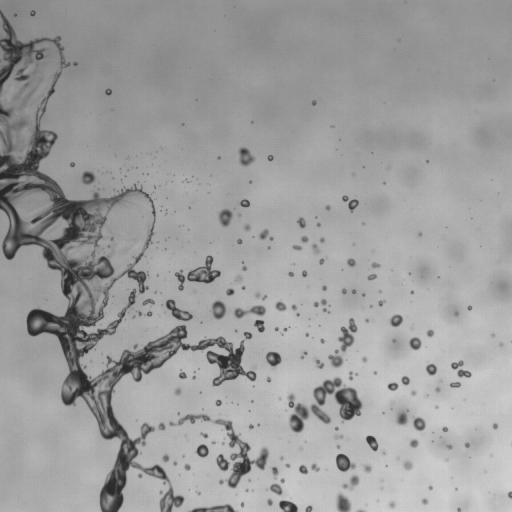droplet: (335, 453, 356, 472), (451, 360, 471, 377), (238, 147, 255, 166), (210, 300, 227, 319), (265, 351, 282, 370), (217, 208, 233, 227), (335, 492, 351, 511), (411, 415, 426, 435), (342, 195, 358, 213), (341, 474, 359, 490), (395, 408, 409, 425), (277, 500, 298, 511), (80, 171, 95, 185), (194, 444, 209, 458), (365, 435, 378, 451), (388, 314, 403, 327), (259, 228, 273, 241), (408, 337, 421, 350), (425, 361, 437, 375), (253, 319, 265, 332), (312, 356, 324, 369), (275, 299, 286, 311), (253, 291, 267, 300), (17, 32, 28, 43), (4, 76, 15, 87), (48, 144, 59, 155), (36, 160, 47, 171), (72, 166, 83, 177), (80, 189, 91, 200), (64, 190, 75, 201), (229, 202, 240, 213), (318, 210, 329, 221), (32, 244, 43, 255), (51, 269, 62, 280), (154, 295, 165, 306), (222, 295, 233, 306), (59, 297, 70, 308), (263, 299, 274, 310), (154, 301, 165, 312), (301, 303, 312, 314), (54, 306, 65, 317), (223, 309, 234, 320), (159, 325, 170, 336), (310, 327, 321, 338), (148, 330, 159, 341), (302, 338, 313, 349), (308, 341, 319, 352), (303, 356, 314, 367), (239, 358, 250, 369), (436, 362, 447, 373), (209, 363, 220, 374), (85, 368, 96, 379), (325, 368, 336, 379), (447, 370, 458, 381), (121, 372, 132, 383), (429, 392, 440, 403), (324, 393, 335, 404), (303, 395, 314, 406), (208, 407, 219, 418), (305, 413, 316, 424), (281, 419, 292, 430), (127, 428, 138, 439), (217, 428, 228, 439), (110, 436, 121, 447), (221, 446, 232, 457), (207, 447, 218, 458), (405, 447, 416, 458), (247, 449, 258, 460), (206, 450, 217, 461), (106, 453, 117, 464), (125, 466, 136, 477), (264, 473, 275, 484), (95, 475, 106, 486), (182, 498, 193, 509), (311, 243, 321, 255), (142, 297, 155, 306), (360, 464, 372, 473), (400, 375, 410, 385), (403, 460, 413, 470), (309, 462, 319, 472), (298, 464, 308, 474), (239, 198, 250, 207), (296, 217, 305, 228), (387, 382, 398, 391), (178, 369, 187, 379), (348, 371, 358, 380), (408, 438, 418, 447), (347, 258, 356, 267), (233, 275, 242, 284), (229, 215, 238, 224), (304, 217, 313, 226), (251, 226, 260, 235), (315, 227, 324, 236), (239, 230, 248, 239), (18, 244, 27, 253), (134, 293, 143, 302), (220, 294, 229, 303), (240, 301, 249, 310), (42, 303, 51, 312), (364, 308, 373, 317), (248, 324, 257, 333), (49, 334, 58, 343), (419, 334, 428, 343), (78, 355, 87, 364), (364, 361, 373, 370), (341, 378, 350, 387), (440, 382, 449, 391), (112, 409, 121, 418), (389, 410, 398, 419), (115, 414, 124, 423), (88, 416, 97, 425), (411, 429, 420, 438), (264, 458, 273, 467), (224, 467, 233, 476), (277, 467, 286, 476), (344, 468, 353, 477), (342, 489, 351, 498), (422, 489, 431, 498), (272, 493, 281, 502), (202, 499, 211, 508), (226, 287, 235, 295), (367, 273, 377, 280), (333, 433, 343, 440), (328, 505, 339, 511), (419, 505, 430, 511), (243, 223, 251, 231), (300, 235, 308, 243), (426, 329, 434, 337), (300, 350, 307, 359), (162, 453, 169, 462), (504, 491, 511, 500), (292, 244, 302, 250), (378, 299, 386, 306), (174, 387, 181, 395), (388, 500, 395, 508), (0, 144, 5, 155), (0, 209, 5, 220), (0, 229, 5, 240), (371, 262, 380, 268), (215, 399, 222, 406), (8, 18, 15, 25), (61, 67, 68, 74), (9, 70, 16, 77), (243, 142, 250, 149), (248, 148, 255, 155), (233, 151, 240, 158), (248, 161, 255, 168), (47, 171, 54, 178), (125, 181, 132, 188), (98, 191, 105, 198), (216, 204, 223, 211), (230, 209, 237, 216), (213, 217, 220, 224), (240, 217, 247, 224), (221, 225, 228, 232), (299, 228, 306, 235), (294, 238, 301, 245), (158, 240, 165, 247), (40, 257, 47, 264), (210, 263, 217, 270), (133, 264, 140, 271), (370, 267, 377, 274), (294, 269, 301, 276), (232, 284, 239, 291), (55, 285, 62, 292), (142, 291, 149, 298), (320, 291, 327, 298), (254, 298, 261, 305), (284, 300, 291, 307), (31, 302, 38, 309), (144, 303, 151, 310), (21, 310, 28, 317), (175, 318, 182, 325), (39, 331, 46, 338), (209, 332, 216, 339), (101, 333, 108, 340), (492, 336, 499, 343), (243, 339, 250, 346), (231, 342, 238, 349), (136, 343, 143, 350), (113, 354, 120, 361), (323, 358, 330, 365), (460, 363, 467, 370), (62, 368, 69, 375), (185, 370, 192, 377), (237, 373, 244, 380), (327, 374, 334, 381), (452, 374, 459, 381), (459, 375, 466, 382), (316, 379, 323, 386), (405, 383, 412, 390), (428, 387, 435, 394), (415, 391, 422, 398), (356, 392, 363, 399), (74, 395, 81, 402), (318, 404, 325, 411), (191, 408, 198, 415), (209, 413, 216, 420), (222, 414, 229, 421), (171, 415, 178, 422), (406, 417, 413, 424), (121, 422, 128, 429), (145, 432, 152, 439), (238, 434, 245, 441), (199, 437, 206, 444), (202, 438, 209, 445), (134, 442, 141, 449), (232, 445, 239, 452), (223, 453, 230, 460), (400, 454, 407, 461), (133, 455, 140, 462), (396, 460, 403, 467), (159, 461, 166, 468), (177, 461, 184, 468), (411, 462, 418, 469), (249, 463, 256, 470), (276, 471, 283, 478), (240, 473, 247, 480), (353, 483, 360, 490), (161, 485, 168, 492), (120, 487, 127, 494), (93, 494, 100, 501), (281, 494, 288, 501), (291, 497, 298, 504), (196, 501, 203, 508), (272, 501, 279, 508), (231, 502, 238, 509), (200, 432, 208, 438), (267, 498, 273, 506), (305, 505, 313, 511), (170, 506, 179, 511), (296, 506, 305, 511), (347, 506, 356, 511), (105, 88, 111, 95), (236, 238, 242, 245), (291, 304, 297, 311), (410, 390, 417, 396), (492, 422, 498, 429), (442, 425, 448, 432), (211, 439, 218, 445), (184, 463, 190, 470), (421, 498, 428, 504), (267, 155, 273, 161), (288, 271, 294, 277), (321, 285, 327, 291), (361, 356, 367, 362), (265, 376, 271, 382), (0, 48, 4, 57), (0, 122, 4, 131), (319, 258, 324, 265), (302, 270, 307, 277), (454, 310, 459, 317), (435, 386, 440, 393), (248, 423, 253, 430), (445, 444, 452, 449), (381, 448, 386, 455), (30, 10, 35, 16), (69, 162, 75, 167), (325, 204, 330, 210), (319, 237, 324, 243), (341, 288, 346, 294), (424, 393, 429, 399), (464, 442, 470, 447), (336, 444, 341, 450), (195, 490, 201, 495), (117, 507, 124, 511), (387, 507, 394, 511), (316, 222, 321, 227), (351, 289, 356, 294), (467, 305, 472, 310), (304, 332, 309, 337), (320, 338, 325, 343), (498, 341, 503, 346), (285, 463, 290, 468), (428, 485, 433, 490), (25, 9, 30, 14), (41, 32, 46, 37), (36, 33, 41, 38), (49, 34, 54, 39), (30, 35, 35, 40), (58, 39, 63, 44), (61, 49, 66, 54), (68, 63, 73, 68), (57, 76, 62, 81), (20, 79, 25, 84), (2, 80, 7, 85), (53, 85, 58, 90), (50, 92, 55, 97), (310, 95, 315, 100), (38, 125, 43, 130), (53, 128, 58, 133), (53, 139, 58, 144), (86, 167, 91, 172), (121, 168, 126, 173), (78, 171, 83, 176), (92, 171, 97, 176), (56, 180, 61, 185), (135, 183, 140, 188), (320, 204, 325, 209), (227, 206, 232, 211), (242, 206, 247, 211), (329, 206, 334, 211), (352, 207, 357, 212), (154, 208, 159, 213), (293, 215, 298, 220), (315, 217, 320, 222), (312, 218, 317, 223), (248, 221, 253, 226), (294, 222, 299, 227), (267, 231, 272, 236), (254, 233, 259, 238), (150, 235, 155, 240), (323, 236, 328, 241), (232, 240, 237, 245), (316, 241, 321, 246), (147, 243, 152, 248), (143, 249, 148, 254), (294, 249, 299, 254), (348, 253, 353, 258), (315, 255, 320, 260), (353, 256, 358, 261), (375, 258, 380, 263), (200, 261, 205, 266), (366, 261, 371, 266), (345, 264, 350, 269), (240, 270, 245, 275), (182, 271, 187, 276), (214, 276, 219, 281), (183, 278, 188, 283), (371, 278, 376, 283), (142, 280, 147, 285), (192, 280, 197, 285), (209, 280, 214, 285), (200, 281, 205, 286), (227, 283, 232, 288), (317, 283, 322, 288), (326, 285, 331, 290), (336, 288, 341, 293), (346, 289, 351, 294), (134, 290, 139, 295), (259, 291, 264, 296), (355, 291, 360, 296), (167, 294, 172, 299), (228, 294, 233, 299), (378, 295, 383, 300), (211, 297, 216, 302), (274, 297, 279, 302), (316, 297, 321, 302), (281, 298, 286, 303), (161, 299, 166, 304), (308, 301, 313, 306), (174, 302, 179, 307), (373, 302, 378, 307), (207, 303, 212, 308), (318, 303, 323, 308), (295, 307, 300, 312), (166, 308, 171, 313), (274, 308, 279, 313), (280, 309, 285, 314), (291, 309, 296, 314), (449, 309, 454, 314), (397, 310, 402, 315), (208, 312, 213, 317), (387, 313, 392, 318), (401, 314, 406, 319), (257, 315, 262, 320), (451, 315, 456, 320), (353, 319, 358, 324), (22, 322, 27, 327), (117, 322, 122, 327), (262, 322, 267, 327), (398, 322, 403, 327), (344, 323, 349, 328), (390, 325, 395, 330), (425, 325, 430, 330), (185, 326, 190, 331), (278, 326, 283, 331), (305, 327, 310, 332), (338, 331, 343, 336), (432, 332, 437, 337), (409, 333, 414, 338), (27, 334, 32, 339), (240, 334, 245, 339), (198, 335, 203, 340), (429, 335, 434, 340), (225, 337, 230, 342), (193, 340, 198, 345), (406, 344, 411, 349), (345, 345, 350, 350), (418, 345, 423, 350), (177, 346, 182, 351), (129, 347, 134, 352), (186, 347, 191, 352), (271, 347, 276, 352), (409, 347, 414, 352), (195, 348, 200, 353), (87, 349, 92, 354), (330, 351, 335, 356), (170, 354, 175, 359), (366, 356, 371, 361), (102, 357, 107, 362), (203, 358, 208, 363), (163, 360, 168, 365), (311, 361, 316, 366), (360, 361, 365, 366), (433, 361, 438, 366), (265, 362, 270, 367), (275, 363, 280, 368), (102, 365, 107, 370), (315, 367, 320, 372), (82, 368, 87, 373), (150, 368, 155, 373), (435, 368, 440, 373), (452, 368, 457, 373), (254, 369, 259, 374), (423, 370, 428, 375), (405, 372, 410, 377), (431, 373, 436, 378), (255, 374, 260, 379), (179, 377, 184, 382), (227, 378, 232, 383), (245, 378, 250, 383), (388, 378, 393, 383), (207, 379, 212, 384), (223, 379, 228, 384), (408, 379, 413, 384), (132, 380, 137, 385), (397, 381, 402, 386), (112, 384, 117, 389), (180, 387, 185, 392), (169, 388, 174, 393), (386, 388, 391, 393), (110, 392, 115, 397), (175, 394, 180, 399), (409, 394, 414, 399), (57, 398, 62, 403), (284, 398, 289, 403), (109, 400, 114, 405), (431, 400, 436, 405), (68, 403, 73, 408), (85, 407, 90, 412), (358, 407, 363, 412), (384, 408, 389, 413), (201, 409, 206, 414), (179, 412, 184, 417), (414, 412, 419, 417), (352, 414, 357, 419), (420, 414, 425, 419), (194, 418, 199, 423), (343, 418, 348, 423), (491, 418, 496, 423), (318, 419, 323, 424), (251, 420, 256, 425), (147, 421, 152, 426), (163, 421, 168, 426), (424, 422, 429, 427), (399, 423, 404, 428), (487, 423, 492, 428), (497, 423, 502, 428), (220, 424, 225, 429), (423, 426, 428, 431), (331, 429, 336, 434), (336, 429, 341, 434), (233, 430, 238, 435), (291, 430, 296, 435), (369, 431, 374, 436), (97, 434, 102, 439), (374, 435, 379, 440), (225, 437, 230, 442), (336, 438, 341, 443), (405, 440, 410, 445), (417, 440, 422, 445), (247, 441, 252, 446), (363, 441, 368, 446), (206, 443, 211, 448), (192, 445, 197, 450), (376, 446, 381, 451), (409, 446, 414, 451), (443, 447, 448, 452), (336, 449, 341, 454), (340, 449, 345, 454), (344, 451, 349, 456), (193, 452, 198, 457), (331, 454, 336, 459), (168, 457, 173, 462), (348, 457, 353, 462), (282, 458, 287, 463), (331, 459, 336, 464), (148, 462, 153, 467), (315, 462, 320, 467), (369, 462, 374, 467), (189, 463, 194, 468), (213, 463, 218, 468), (227, 463, 232, 468), (305, 464, 310, 469), (399, 465, 404, 470), (370, 467, 375, 472), (409, 467, 414, 472), (136, 468, 141, 473), (185, 469, 190, 474), (337, 469, 342, 474), (405, 469, 410, 474), (164, 470, 169, 475), (141, 472, 146, 477), (299, 472, 304, 477), (158, 478, 163, 483), (275, 479, 280, 484), (222, 480, 227, 485), (265, 482, 270, 487), (279, 482, 284, 487), (227, 486, 232, 491), (190, 487, 195, 492), (172, 491, 177, 496), (158, 493, 163, 498), (387, 496, 392, 501), (505, 496, 510, 501), (393, 498, 398, 503), (416, 498, 421, 503), (181, 500, 186, 505), (220, 500, 225, 505), (262, 500, 267, 505), (212, 501, 217, 506), (384, 503, 389, 508), (394, 503, 399, 508), (423, 503, 428, 508), (359, 504, 364, 509), (433, 405, 439, 409), (240, 501, 244, 507), (0, 236, 3, 243), (0, 249, 3, 256), (73, 61, 78, 65), (312, 100, 316, 105), (237, 212, 241, 217), (241, 285, 245, 290), (361, 292, 365, 297), (490, 333, 495, 337), (334, 426, 338, 431), (279, 455, 283, 460), (173, 460, 177, 465), (418, 232, 422, 236), (378, 289, 382, 293), (410, 290, 414, 294), (369, 304, 373, 308), (392, 338, 396, 342), (373, 371, 377, 375), (192, 375, 196, 379), (438, 379, 442, 383), (277, 396, 281, 400), (444, 457, 448, 461), (247, 478, 251, 482), (379, 486, 383, 490), (244, 488, 248, 492), (457, 507, 461, 511), (296, 312, 299, 317), (508, 486, 511, 491), (96, 508, 101, 511), (155, 508, 160, 511), (460, 508, 465, 511), (217, 156, 221, 159), (382, 181, 386, 184), (361, 222, 365, 225), (291, 262, 295, 265), (156, 273, 159, 277), (164, 310, 167, 314), (132, 315, 135, 319), (299, 447, 303, 450), (182, 453, 185, 457), (396, 456, 399, 460), (0, 17, 2, 22), (0, 208, 2, 213), (0, 246, 2, 251), (14, 13, 17, 16), (426, 160, 429, 163), (146, 172, 149, 175), (249, 180, 252, 183), (152, 185, 155, 188), (352, 242, 355, 245), (267, 246, 270, 249), (408, 272, 411, 275), (327, 304, 330, 307), (234, 329, 237, 332), (193, 370, 196, 373), (250, 400, 253, 403), (382, 411, 385, 414), (257, 423, 260, 426), (385, 464, 388, 467), (380, 479, 383, 482), (454, 487, 457, 490), (251, 489, 254, 492), (376, 499, 379, 502), (34, 8, 37, 11), (16, 12, 19, 15), (34, 12, 37, 15), (30, 15, 33, 18), (75, 59, 78, 62), (75, 64, 78, 67), (66, 65, 69, 68), (109, 86, 112, 89), (111, 90, 114, 93), (102, 91, 105, 94), (107, 94, 110, 97), (308, 100, 311, 103), (314, 103, 317, 106), (43, 111, 46, 114), (183, 123, 186, 126), (330, 127, 333, 130), (370, 148, 373, 151), (268, 151, 271, 154), (215, 153, 218, 156), (220, 155, 223, 158), (272, 156, 275, 159), (425, 156, 428, 159), (218, 158, 221, 161), (265, 158, 268, 161), (72, 159, 75, 162), (67, 160, 70, 163), (268, 160, 271, 163), (428, 160, 431, 163), (423, 161, 426, 164), (70, 166, 73, 169), (361, 167, 364, 170), (143, 172, 146, 175), (148, 173, 151, 176), (181, 176, 184, 179), (192, 176, 195, 179), (187, 177, 190, 180), (384, 179, 387, 182), (133, 180, 136, 183), (167, 180, 170, 183), (183, 180, 186, 183), (245, 180, 248, 183), (251, 180, 254, 183), (248, 183, 251, 186), (380, 183, 383, 186), (384, 183, 387, 186), (155, 184, 158, 187), (141, 188, 144, 191), (145, 190, 148, 193), (344, 192, 347, 195), (150, 196, 153, 199), (240, 196, 243, 199), (354, 196, 357, 199), (246, 197, 249, 200), (339, 197, 342, 200), (152, 199, 155, 202), (248, 200, 251, 203), (153, 204, 156, 207), (190, 205, 193, 208), (185, 207, 188, 210), (161, 209, 164, 212), (166, 209, 169, 212), (324, 209, 327, 212), (314, 212, 317, 215), (166, 213, 169, 216), (299, 214, 302, 217), (153, 222, 156, 225), (316, 226, 319, 229), (152, 228, 155, 231), (421, 232, 424, 235), (272, 238, 275, 241), (241, 239, 244, 242), (236, 243, 239, 246), (163, 244, 166, 247), (270, 245, 273, 248), (264, 246, 267, 249), (166, 247, 169, 250), (268, 248, 271, 251), (162, 249, 165, 252), (205, 252, 208, 255), (140, 255, 143, 258), (322, 256, 325, 259), (322, 261, 325, 264), (240, 263, 243, 266), (192, 266, 195, 269), (288, 268, 291, 271), (409, 269, 412, 272), (405, 270, 408, 273), (158, 272, 161, 275), (219, 272, 222, 275), (436, 272, 439, 275), (299, 273, 302, 276), (410, 273, 413, 276), (286, 274, 289, 277), (305, 274, 308, 277), (376, 274, 379, 277), (439, 275, 442, 278), (174, 276, 177, 279), (290, 276, 293, 279), (302, 276, 305, 279), (364, 277, 367, 280), (435, 277, 438, 280), (323, 282, 326, 285), (239, 283, 242, 286), (244, 286, 247, 289), (351, 286, 354, 289), (175, 287, 178, 290), (241, 289, 244, 292), (407, 289, 410, 292), (156, 290, 159, 293), (179, 290, 182, 293), (413, 290, 416, 293), (352, 293, 355, 296), (364, 293, 367, 296), (410, 293, 413, 296), (147, 302, 150, 305), (382, 302, 385, 305), (131, 303, 134, 306), (366, 304, 369, 307), (326, 307, 329, 310), (369, 307, 372, 310), (464, 307, 467, 310), (125, 308, 128, 311), (470, 308, 473, 311), (188, 310, 191, 313), (323, 311, 326, 314), (135, 312, 138, 315), (151, 313, 154, 316), (140, 314, 143, 317), (298, 314, 301, 317), (145, 315, 148, 318), (364, 315, 367, 318), (121, 317, 124, 320), (202, 320, 205, 323), (368, 320, 371, 323), (318, 321, 321, 324), (199, 323, 202, 326), (289, 323, 292, 326), (284, 324, 287, 327), (286, 327, 289, 330), (231, 328, 234, 331), (275, 330, 278, 333), (282, 330, 285, 333), (489, 330, 492, 333), (259, 331, 262, 334), (308, 333, 311, 336), (302, 334, 305, 337), (280, 335, 283, 338), (322, 336, 325, 339), (394, 336, 397, 339), (317, 339, 320, 342), (389, 340, 392, 343), (394, 341, 397, 344), (304, 348, 307, 351), (303, 354, 306, 357), (359, 355, 362, 358), (263, 358, 266, 361), (359, 359, 362, 362), (448, 364, 451, 367), (373, 367, 376, 370), (195, 369, 198, 372), (177, 370, 180, 373), (184, 371, 187, 374), (357, 371, 360, 374), (376, 371, 379, 374), (191, 372, 194, 375), (371, 373, 374, 376), (195, 375, 198, 378), (270, 378, 273, 381), (265, 381, 268, 384), (214, 385, 217, 388), (433, 385, 436, 388), (196, 389, 199, 392), (201, 390, 204, 393), (199, 393, 202, 396), (217, 396, 220, 399), (250, 396, 253, 399), (220, 398, 223, 401), (212, 402, 215, 405), (233, 402, 236, 405), (238, 402, 241, 405), (250, 402, 253, 405), (437, 403, 440, 406), (285, 404, 288, 407), (216, 405, 219, 408), (245, 407, 248, 410), (382, 408, 385, 411), (435, 408, 438, 411), (250, 409, 253, 412), (174, 410, 177, 413), (246, 411, 249, 414), (378, 411, 381, 414), (139, 422, 142, 425), (246, 422, 249, 425), (259, 422, 262, 425), (442, 423, 445, 426), (446, 425, 449, 428), (439, 426, 442, 429), (202, 430, 205, 433), (443, 431, 446, 434), (207, 433, 210, 436), (343, 434, 346, 437), (465, 439, 468, 442), (447, 441, 450, 444), (468, 441, 471, 444), (461, 443, 464, 446), (468, 445, 471, 448), (463, 446, 466, 449), (448, 448, 451, 451), (385, 450, 388, 453), (282, 454, 285, 457), (382, 454, 385, 457), (384, 461, 387, 464), (381, 463, 384, 466), (387, 464, 390, 467), (276, 467, 279, 470), (317, 470, 320, 473), (283, 477, 286, 480), (215, 480, 218, 483), (429, 482, 432, 485), (426, 483, 429, 486), (453, 484, 456, 487), (425, 486, 428, 489), (432, 486, 435, 489), (451, 487, 454, 490), (457, 487, 460, 490), (196, 488, 199, 491), (247, 489, 250, 492), (429, 489, 432, 492), (455, 490, 458, 493), (244, 491, 247, 494), (194, 492, 197, 495), (199, 493, 202, 496), (243, 502, 246, 505), (330, 125, 334, 127), (154, 290, 156, 294), (177, 411, 179, 415), (490, 453, 492, 457), (181, 123, 184, 125), (362, 166, 365, 168), (188, 206, 190, 209), (315, 216, 318, 218), (156, 241, 159, 243), (318, 324, 320, 327), (197, 367, 199, 370), (199, 391, 202, 393), (463, 398, 466, 400), (454, 509, 457, 511), (251, 121, 253, 123), (127, 169, 129, 171), (124, 175, 126, 177), (112, 177, 114, 179), (445, 226, 447, 228), (187, 228, 189, 230), (252, 235, 254, 237), (164, 239, 166, 241), (341, 269, 343, 271), (391, 269, 393, 271), (437, 276, 439, 278), (308, 317, 310, 319), (200, 321, 202, 323), (308, 325, 310, 327), (90, 360, 92, 362), (252, 385, 254, 387), (231, 401, 233, 403), (285, 409, 287, 411), (248, 410, 250, 412), (304, 440, 306, 442), (431, 440, 433, 442), (371, 152, 373, 153), (136, 166, 137, 168), (210, 175, 212, 176), (93, 185, 95, 186), (208, 191, 209, 193), (161, 205, 162, 207), (160, 209, 161, 211), (237, 403, 238, 405), (202, 408, 203, 410), (439, 436, 441, 437), (469, 456, 470, 458), (188, 489, 190, 490), (171, 181, 172, 182), (210, 242, 211, 243)
ligament: (174, 255, 221, 291), (328, 317, 357, 367), (229, 304, 266, 318), (186, 503, 239, 511), (135, 310, 153, 316), (270, 466, 278, 479), (448, 381, 462, 388), (274, 326, 283, 335), (241, 260, 247, 271), (364, 318, 375, 323), (182, 178, 191, 183), (221, 436, 226, 445), (390, 400, 394, 410), (283, 326, 290, 331), (355, 509, 366, 511), (164, 209, 167, 215), (311, 336, 315, 339), (120, 178, 122, 183), (164, 247, 166, 250), (195, 99, 198, 100), (510, 340, 511, 343), (120, 168, 121, 170), (198, 183, 200, 184), (155, 197, 156, 199), (475, 428, 476, 430)
